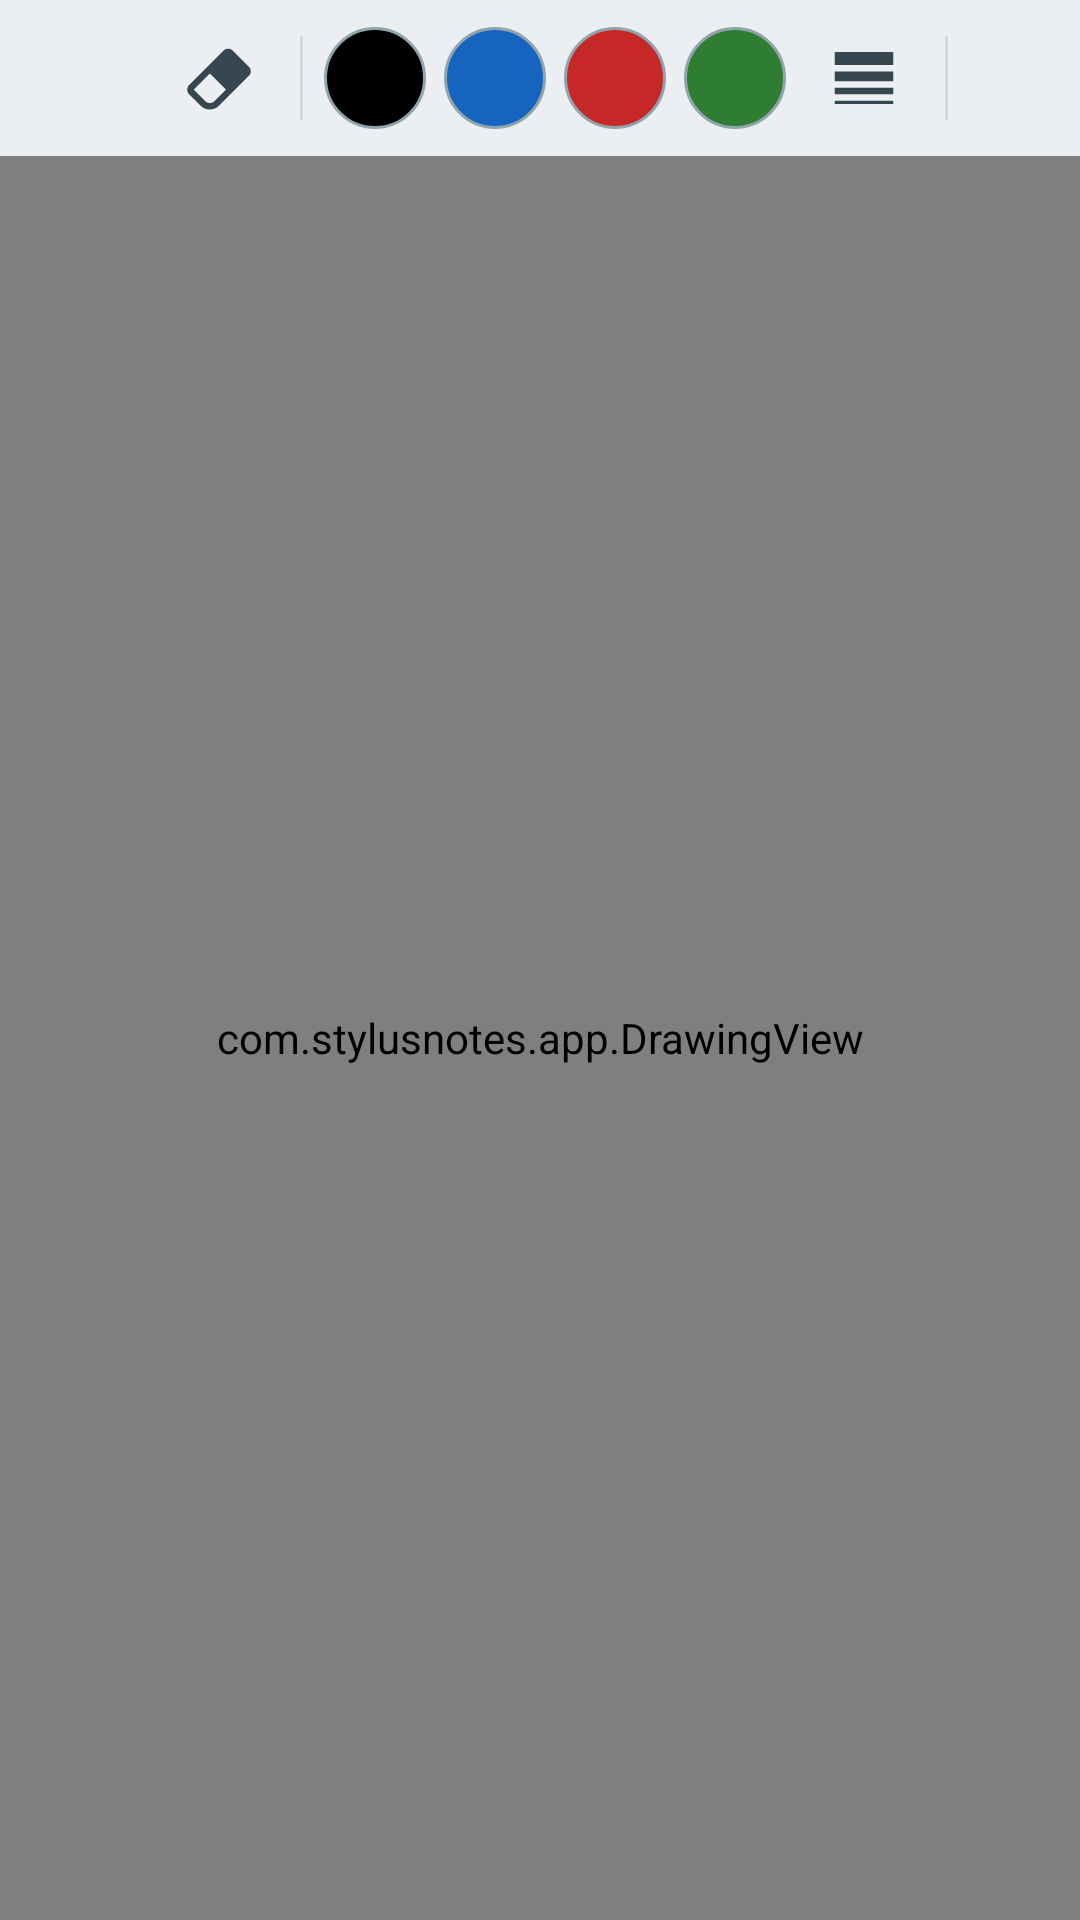

Locate icon controls on the screen. Image size 1080 x 1920, boxes as (x1, y1, x2, y2).
Eraser: (187, 48, 251, 110)
Pen width: (834, 52, 894, 104)
